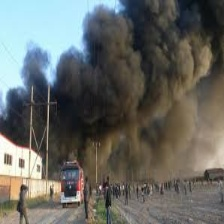smoke: (17, 6, 211, 147)
